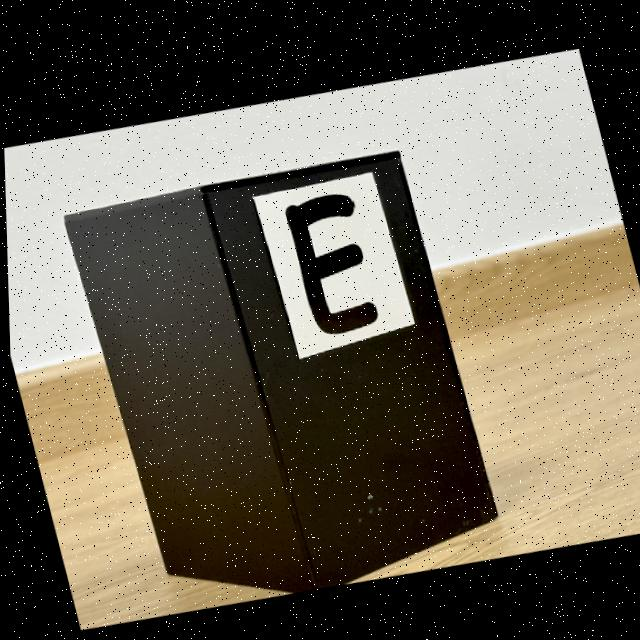E: (284, 189, 377, 330)
